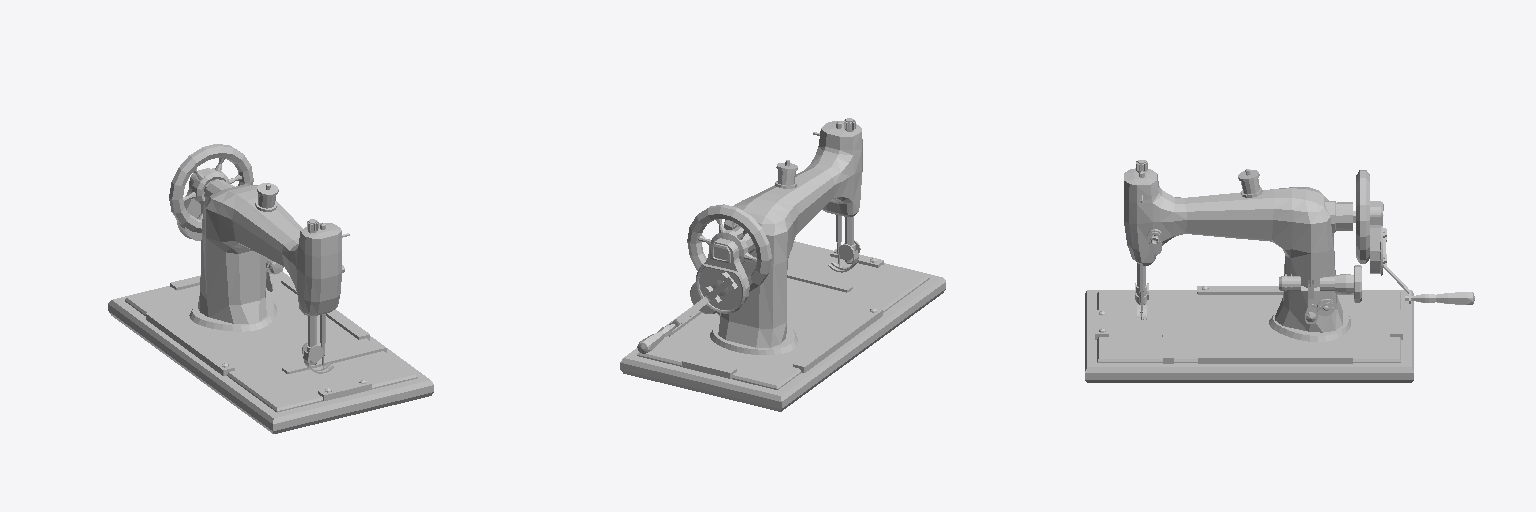
File: maquina.obj
The picture shows the model from 3 angles: view 1: azimuth 30°, elevation 25°; view 2: azimuth 150°, elevation 25°; view 3: azimuth 270°, elevation 25°; orthographic projection.
Parts seen in each view (by area): view 1: SewingMachine_Mesh.007; view 2: SewingMachine_Mesh.007; view 3: SewingMachine_Mesh.007.
Boxes of the visible parts, x1,y1,x2,y2 form: SewingMachine_Mesh.007: [108, 144, 433, 433]; SewingMachine_Mesh.007: [620, 118, 945, 411]; SewingMachine_Mesh.007: [1085, 160, 1474, 382].
Bounding box in the file's own units: 0.4622 × 0.4849 × 0.9677.